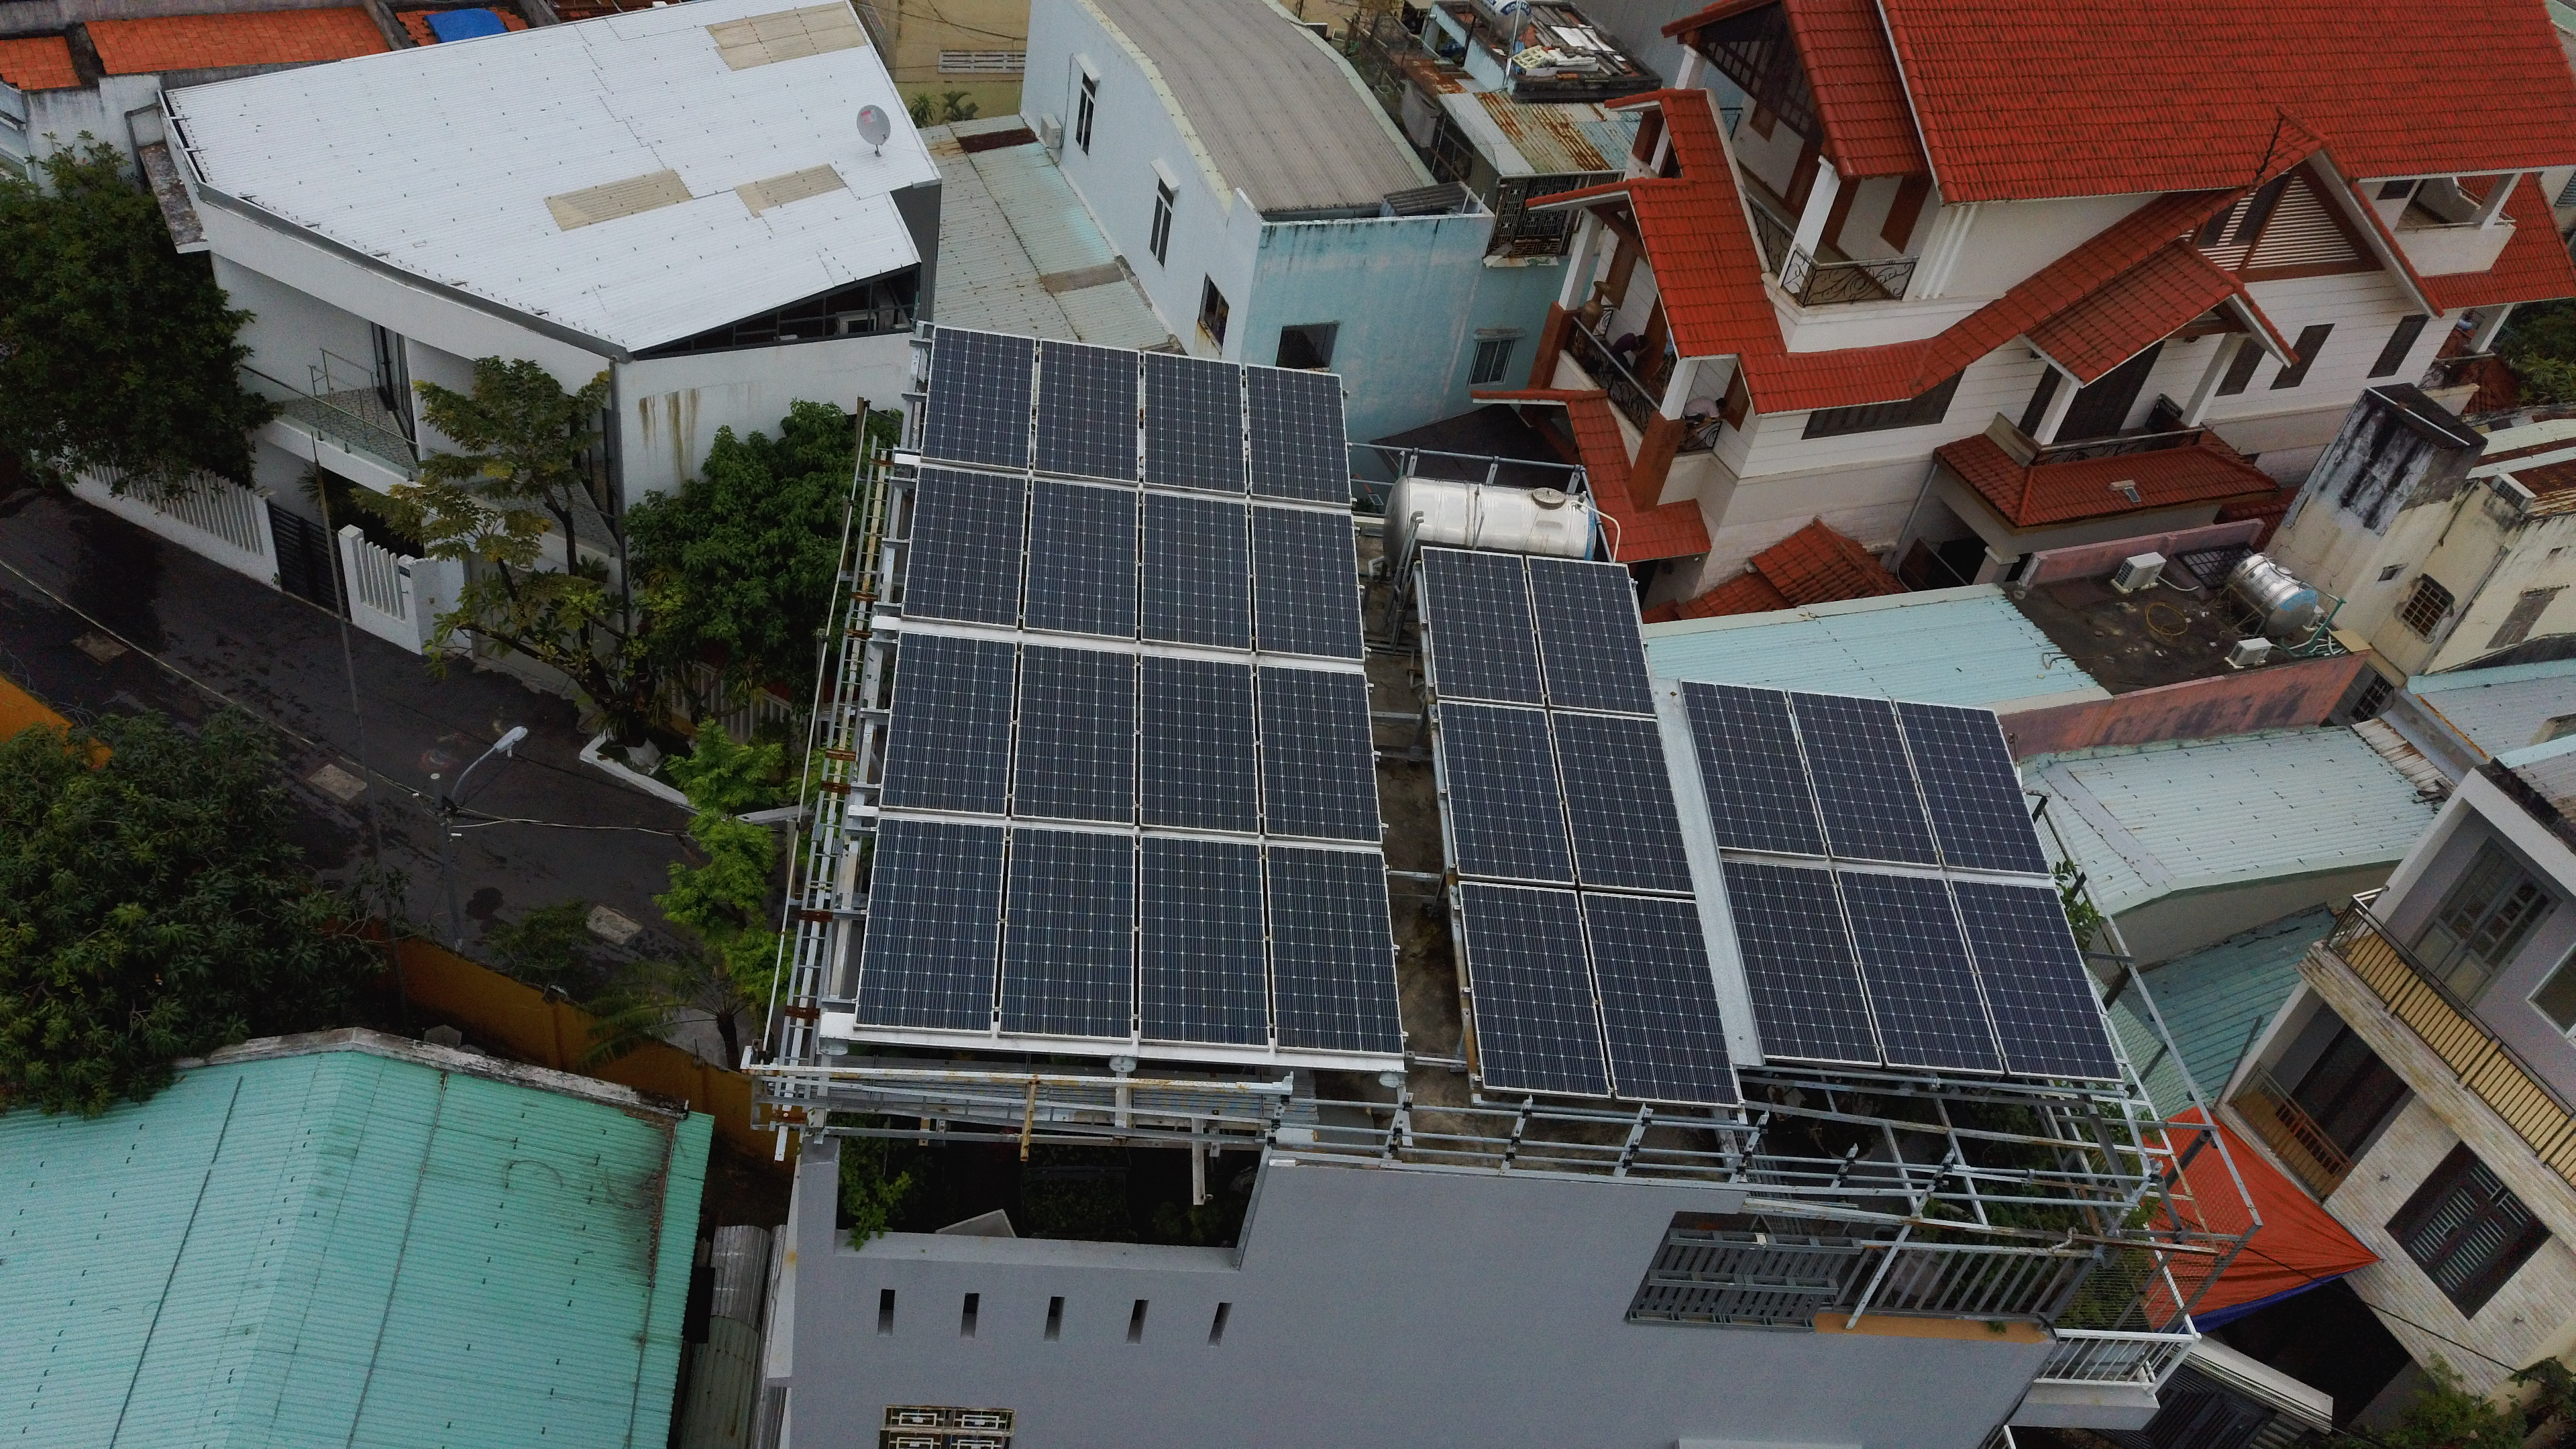solar: (851, 807, 1019, 1049), (1824, 867, 2012, 1079), (1943, 874, 2128, 1086), (1580, 888, 1748, 1111), (1716, 855, 1886, 1074), (989, 816, 1148, 1049), (1118, 821, 1277, 1054), (1451, 878, 1619, 1099), (1260, 835, 1412, 1062), (1428, 692, 1587, 895), (1541, 699, 1700, 902), (1672, 669, 1835, 865), (1888, 699, 2054, 881), (1782, 688, 1941, 874), (872, 628, 1024, 814), (1127, 651, 1267, 839), (1001, 640, 1141, 828), (1518, 545, 1663, 722), (1249, 663, 1387, 849), (1410, 538, 1553, 715), (1017, 467, 1148, 644), (1129, 483, 1260, 658), (1244, 490, 1375, 665), (901, 458, 1030, 633), (1132, 347, 1253, 501), (1028, 336, 1148, 490), (916, 320, 1037, 474), (1240, 357, 1359, 513)
